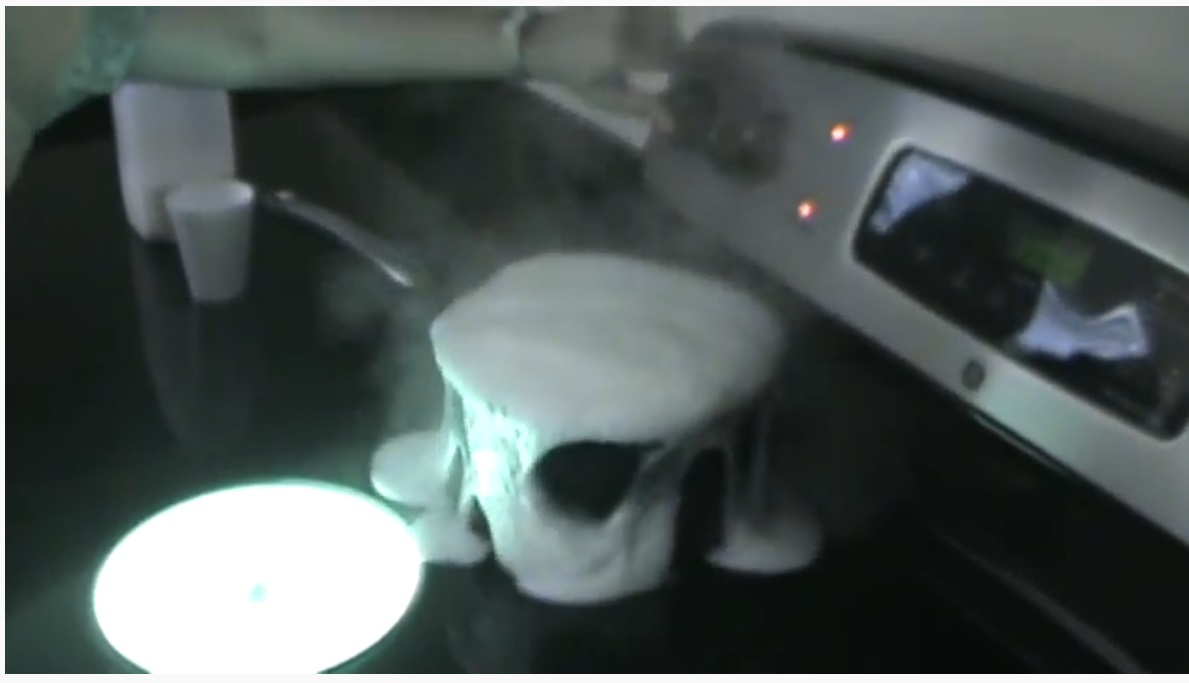Boiled: (372, 247, 870, 613)
